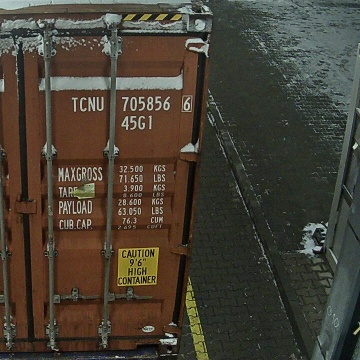serial_id: (71, 96, 191, 111)
